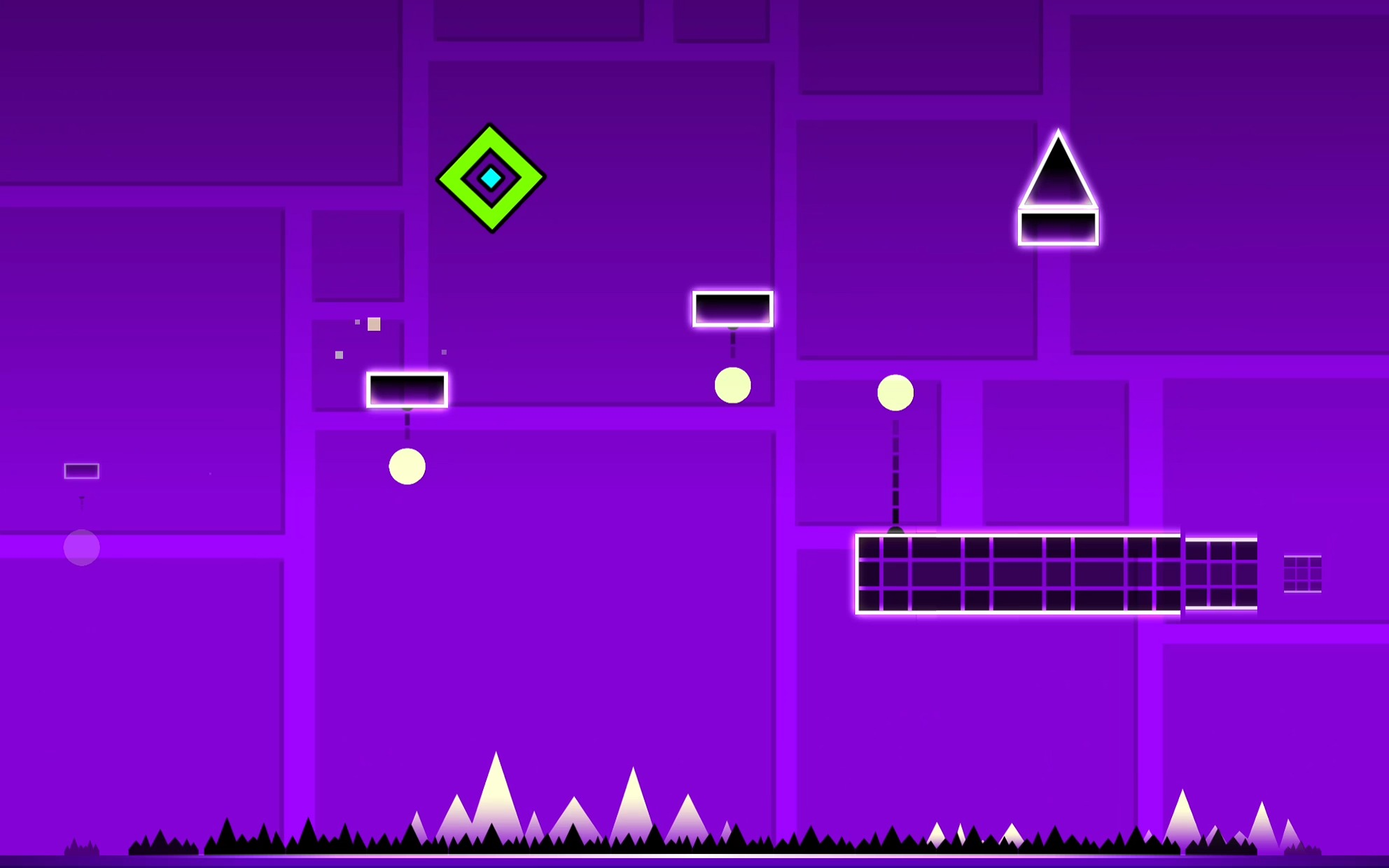Block2: (860, 533, 1272, 611)
Block3: (689, 289, 773, 327), (366, 373, 452, 409), (1020, 212, 1103, 247)
Player: (435, 126, 544, 232)
Spike: (1023, 131, 1098, 211)
